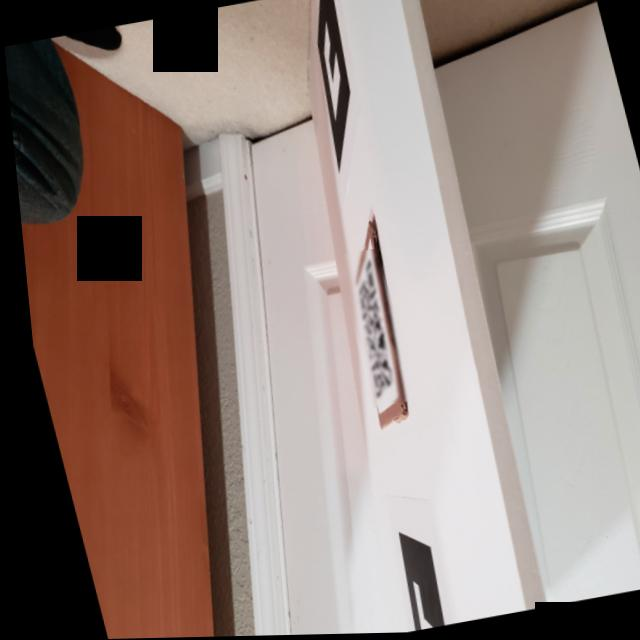QR_CODE: (329, 249, 409, 409)
